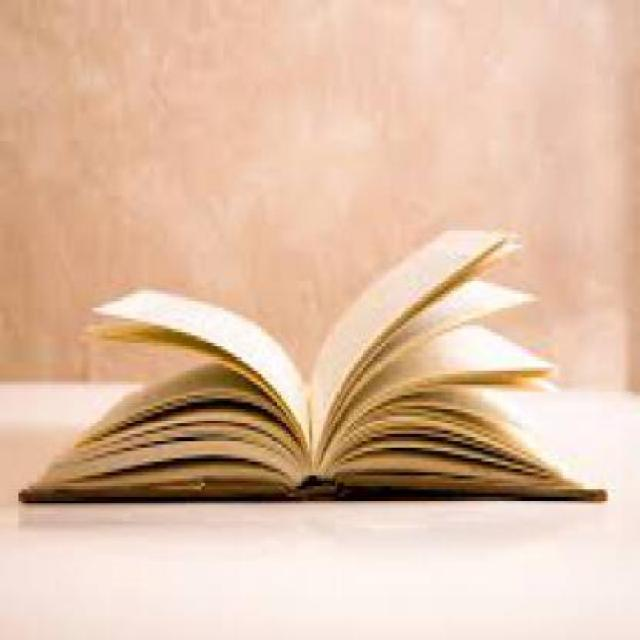PAPER: (17, 221, 605, 507), (312, 221, 514, 482), (79, 283, 310, 489)
